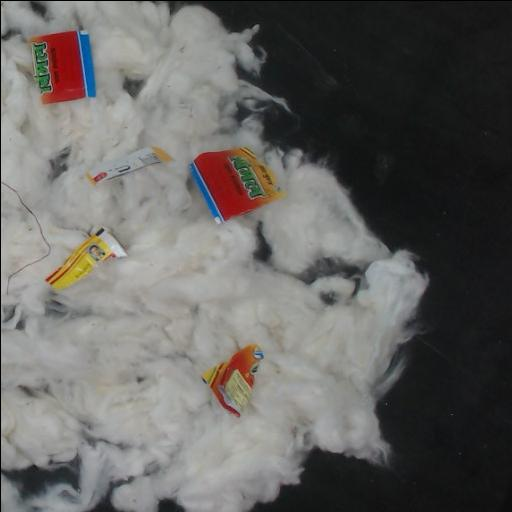conveyor belt: (170, 1, 512, 512), (1, 462, 76, 495), (90, 485, 116, 512), (256, 230, 270, 261), (159, 500, 182, 512)
cotton: (1, 1, 428, 512)
packet: (190, 147, 281, 222), (30, 29, 95, 103), (46, 228, 126, 288), (202, 344, 263, 416), (87, 147, 170, 183)
thread: (1, 180, 51, 295)
